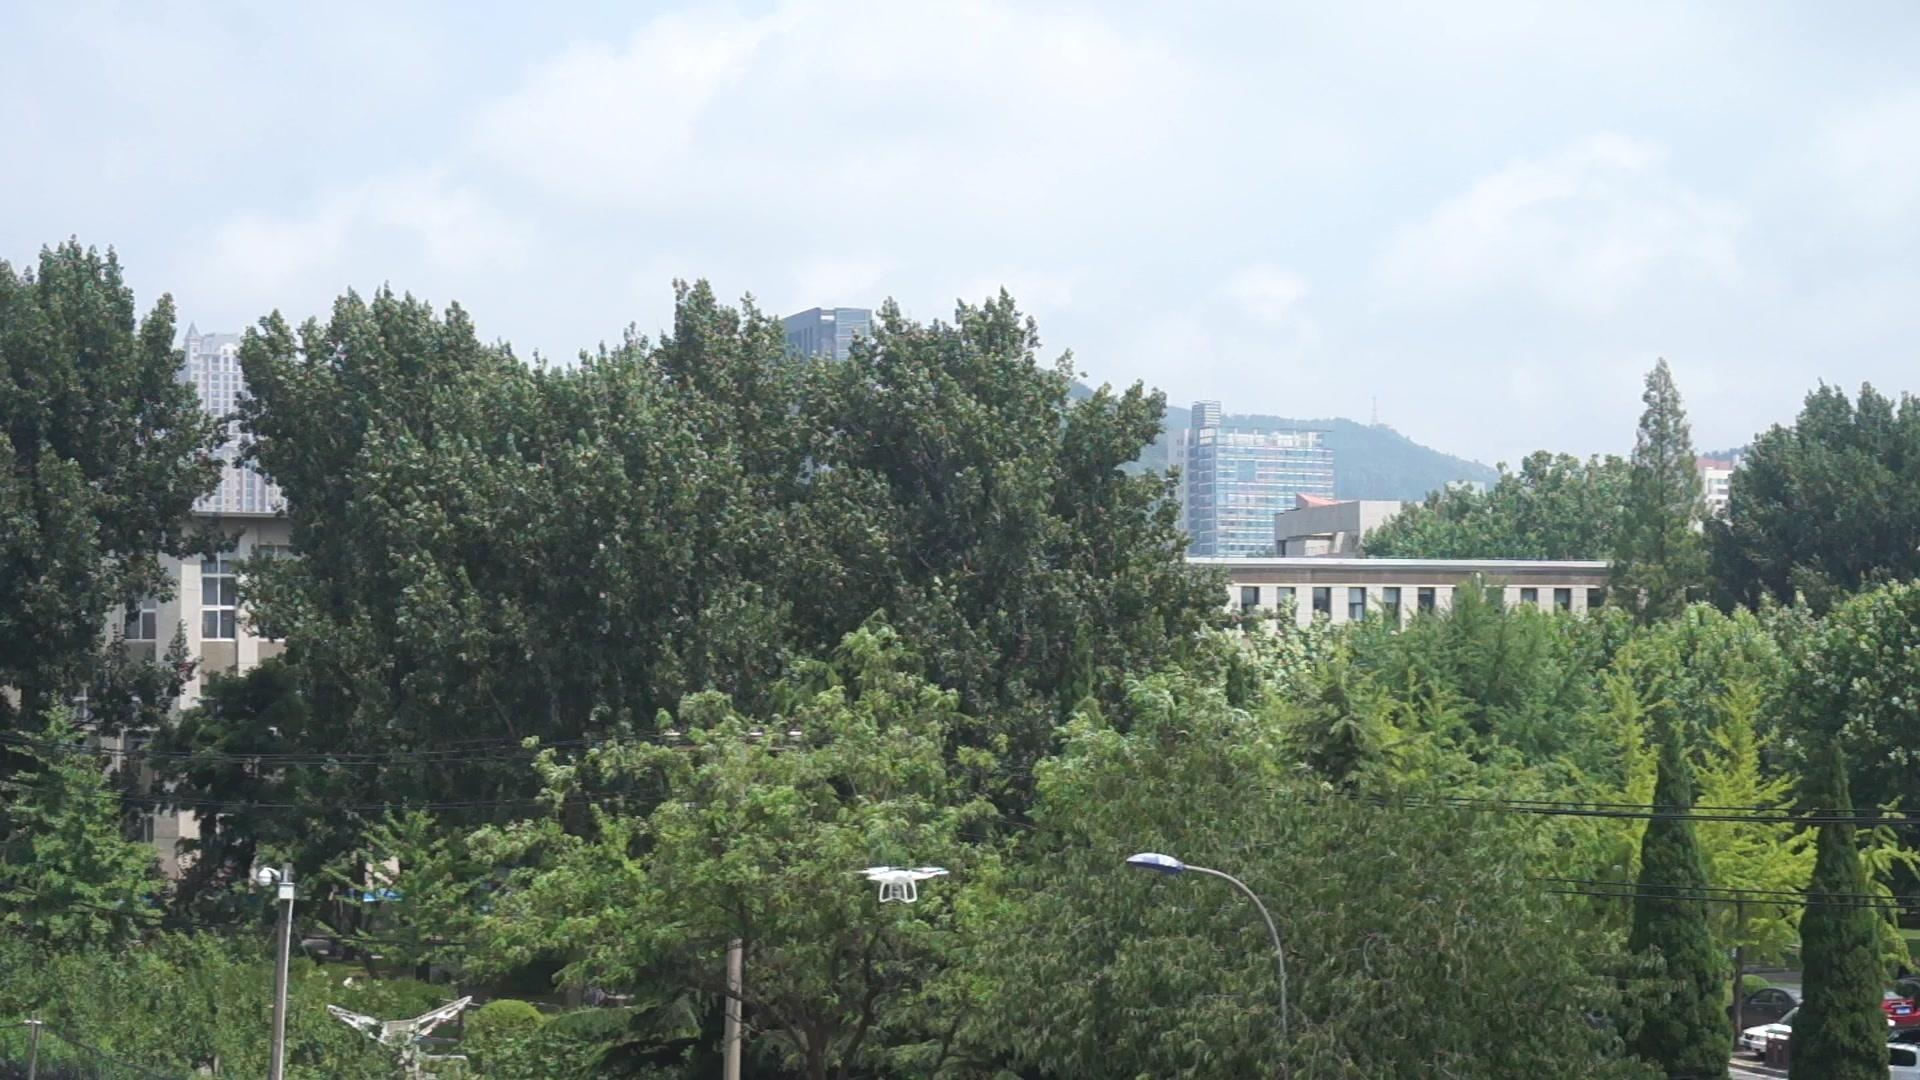UAV: (857, 866, 949, 905)
